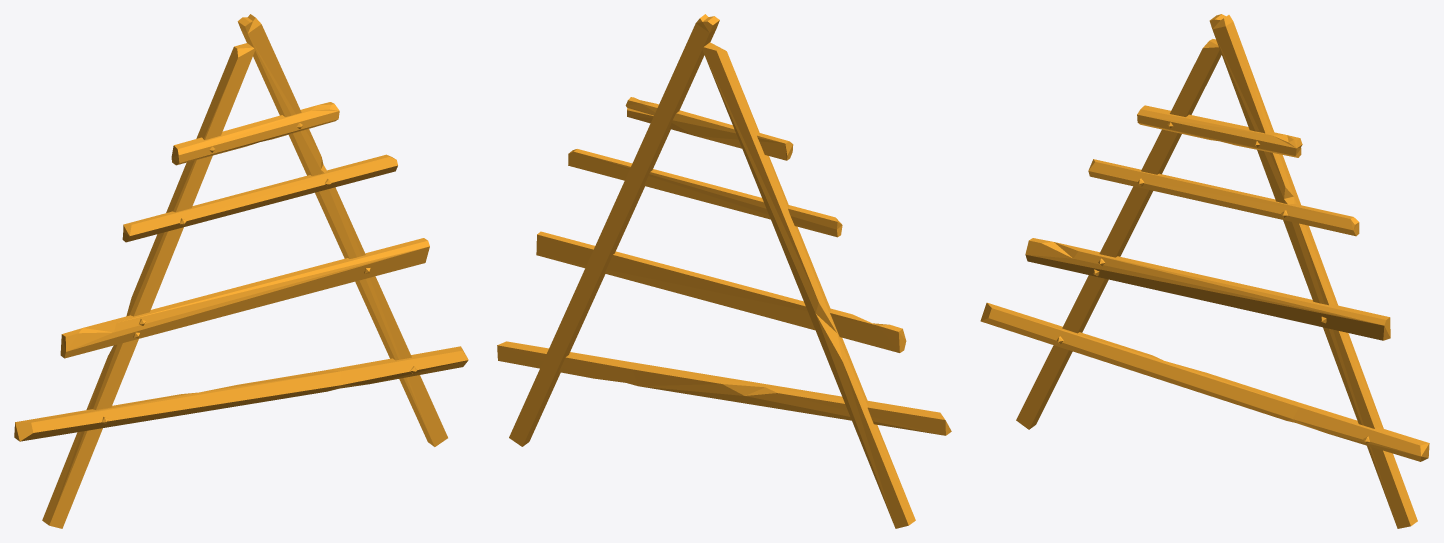
File: SM_Hay_Drying_Rack_Triangle_A.fbx
3 views of the same model, side by side, from view 1: azimuth 30°, elevation 25°; view 2: azimuth 150°, elevation 25°; view 3: azimuth 330°, elevation 25° (orthographic).
Parts seen in each view (by area): view 1: hay-drying-rack-triangle-a; view 2: hay-drying-rack-triangle-a; view 3: hay-drying-rack-triangle-a.
Part boxes in pixels (<box>): hay-drying-rack-triangle-a: <box>14,14,468,528</box>; hay-drying-rack-triangle-a: <box>497,14,951,528</box>; hay-drying-rack-triangle-a: <box>980,14,1429,528</box>.
Size of the model in its own units: 1.88 by 1.9 by 0.1096.
